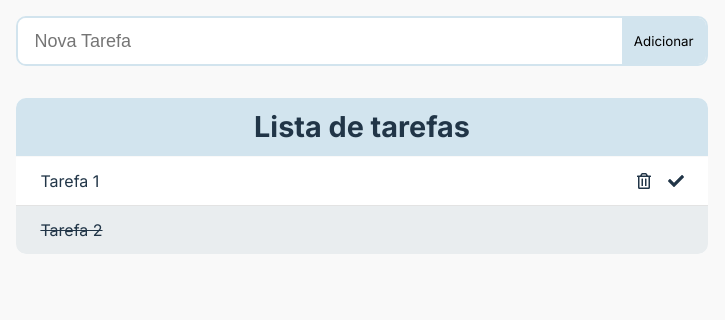
App component › should create a new task and add it to the list
Type "Nova tarefa" into the field with placeholder "Nova Tarefa" at [320, 41], box [18,18,622,64]
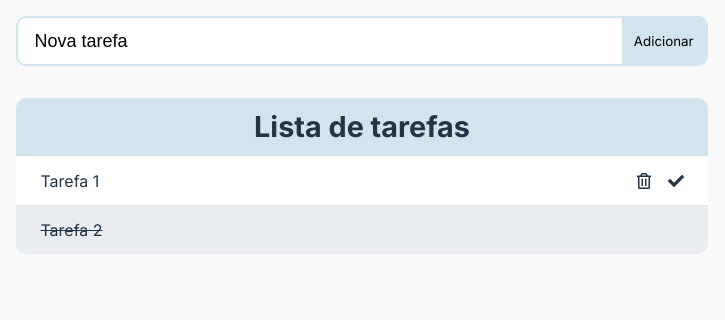
Click the button "Adicionar" at [664, 41], box [622,18,706,64]
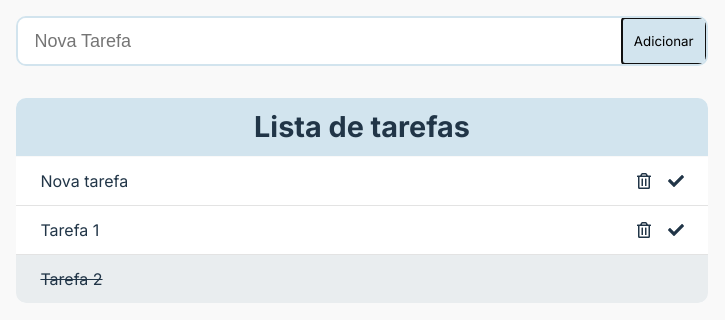
Check: the text "Nova tarefa" is shown, box [40,169,128,193]
Check: the field with placeholder "Nova Tarefa" is empty, box [18,18,622,64]
